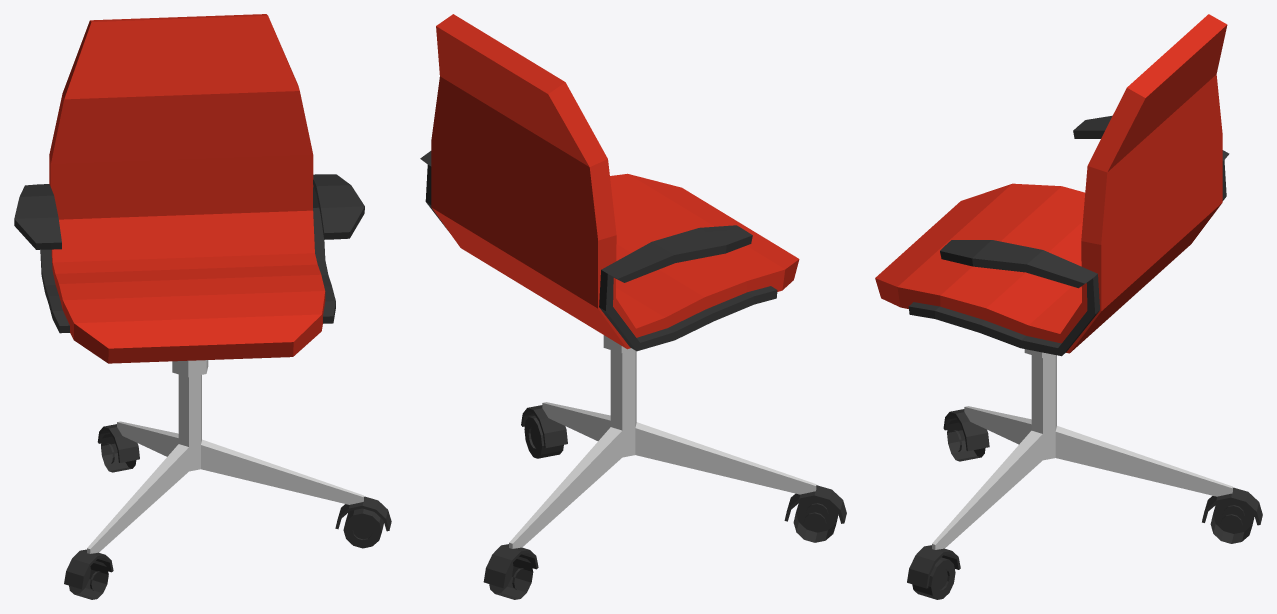
File: red_chair_1.glb
The picture shows the model from 3 angles, left to right: view 1: azimuth 30°, elevation 25°; view 2: azimuth 150°, elevation 25°; view 3: azimuth 270°, elevation 25°; orthographic projection. The views are drawn at different scales.
Parts seen in each view (by area): view 1: Plane.047, Chair, Vert.008, Circle.001; view 2: Plane.047, Chair, Vert.008, Circle.001; view 3: Plane.047, Chair, Vert.008, Circle.001.
Boxes of the visible parts, x1,y1,x2,y2 form: Plane.047: [49, 14, 325, 363]; Chair: [87, 360, 363, 553]; Vert.008: [14, 174, 364, 333]; Circle.001: [64, 424, 391, 599]; Plane.047: [431, 14, 799, 349]; Chair: [509, 335, 816, 548]; Vert.008: [420, 151, 777, 351]; Circle.001: [483, 405, 846, 599]; Plane.047: [875, 14, 1227, 353]; Chair: [932, 349, 1232, 549]; Vert.008: [908, 115, 1229, 356]; Circle.001: [907, 409, 1262, 599].
Size of the model in its own units: 2.03 by 2.75 by 1.91.
